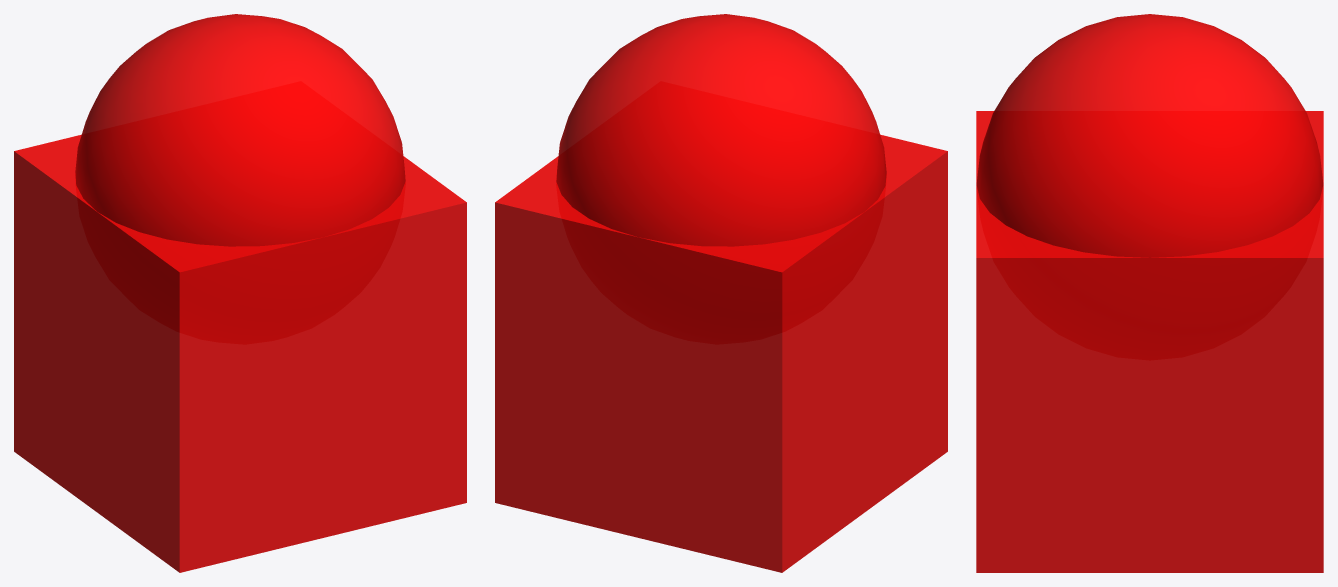
The model's file is 5a6b3cb9-f65c-40a7-b2a7-7fec859295e8.gltf.
The picture shows the model from 3 angles, left to right: view 1: azimuth 30°, elevation 25°; view 2: azimuth 150°, elevation 25°; view 3: azimuth 270°, elevation 25°; orthographic projection. The views are drawn at different scales.
Parts seen in each view (by area): view 1: Cube, Sphere; view 2: Cube, Sphere; view 3: Cube, Sphere.
Part boxes in pixels (bbox=[...]): Cube: bbox=[14, 134, 466, 572]; Sphere: bbox=[75, 14, 405, 246]; Cube: bbox=[495, 134, 947, 572]; Sphere: bbox=[556, 14, 886, 246]; Cube: bbox=[976, 111, 1323, 572]; Sphere: bbox=[976, 14, 1323, 257].
Size of the model in its own units: 1 by 1.49 by 1.
